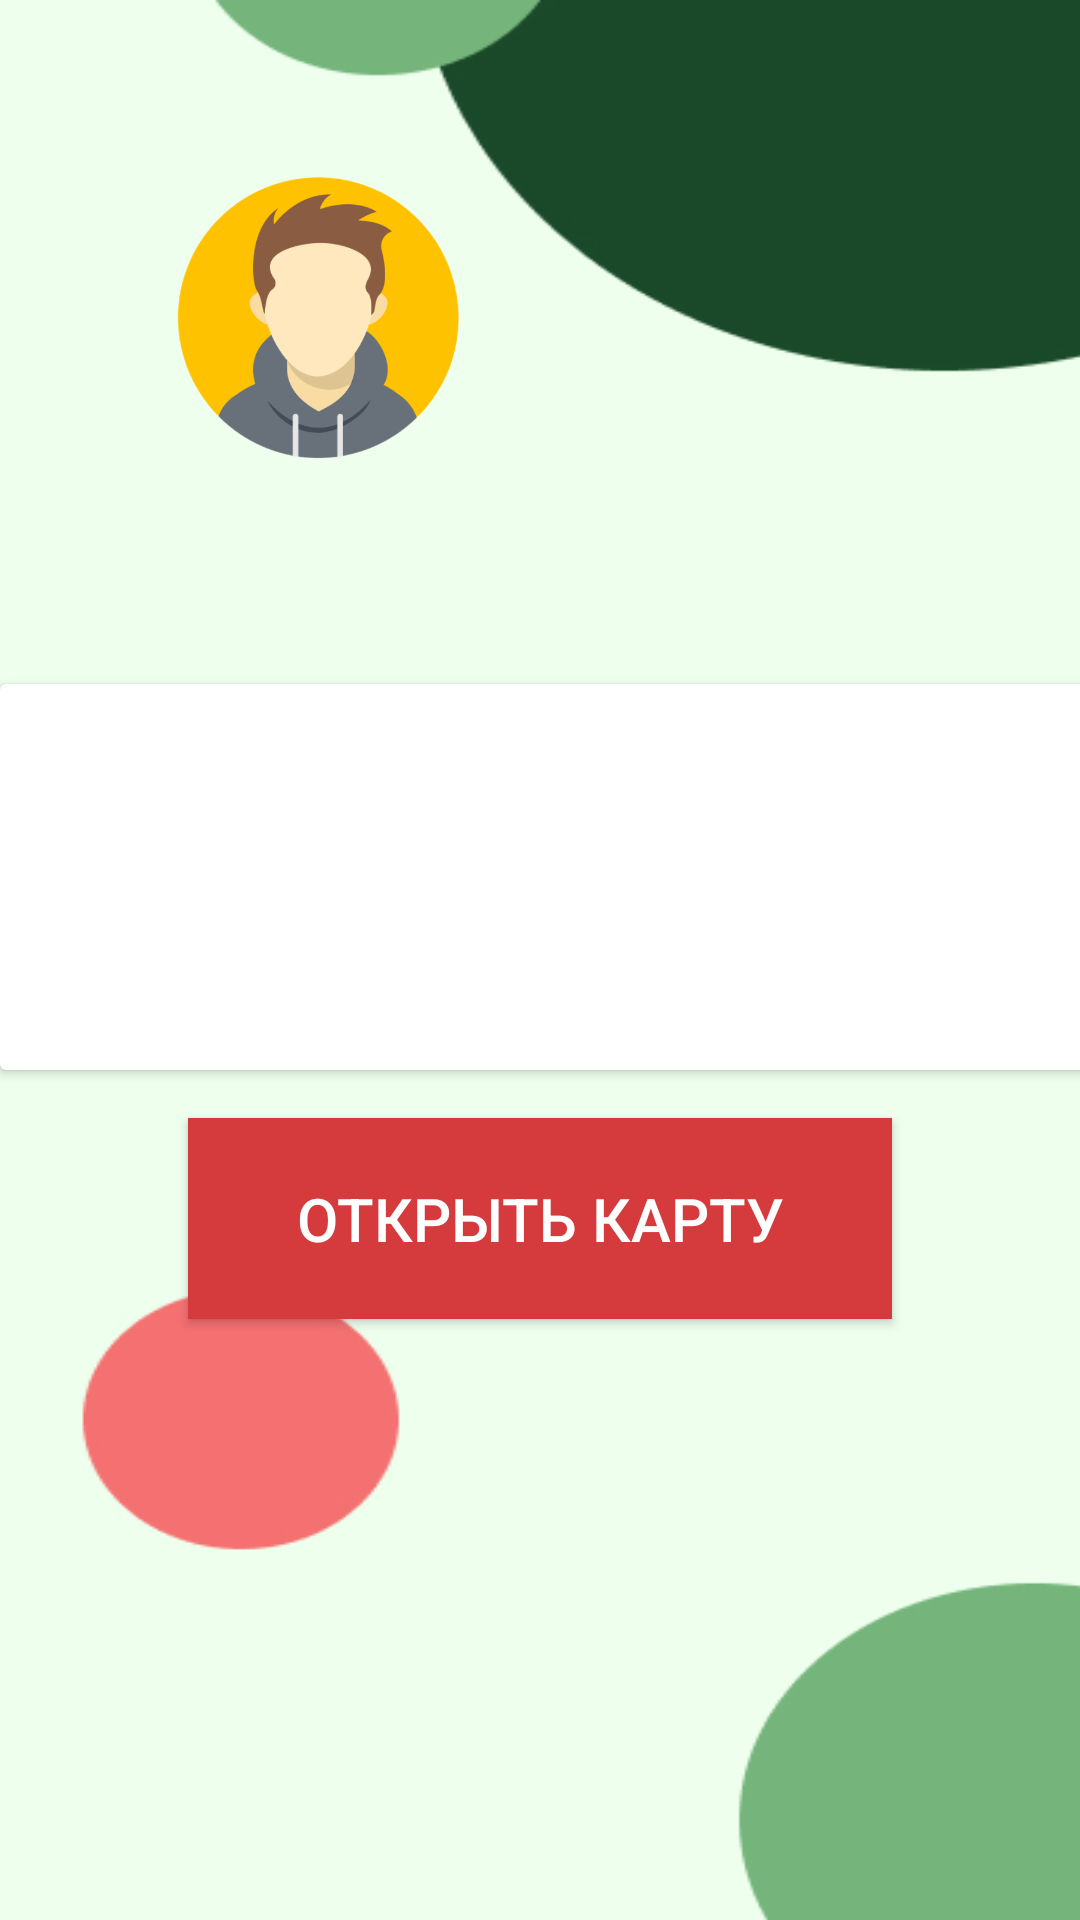

Where to tap for icons on this 1080 × 1920 app screen, as (x,y):
photo user: (318,317)
